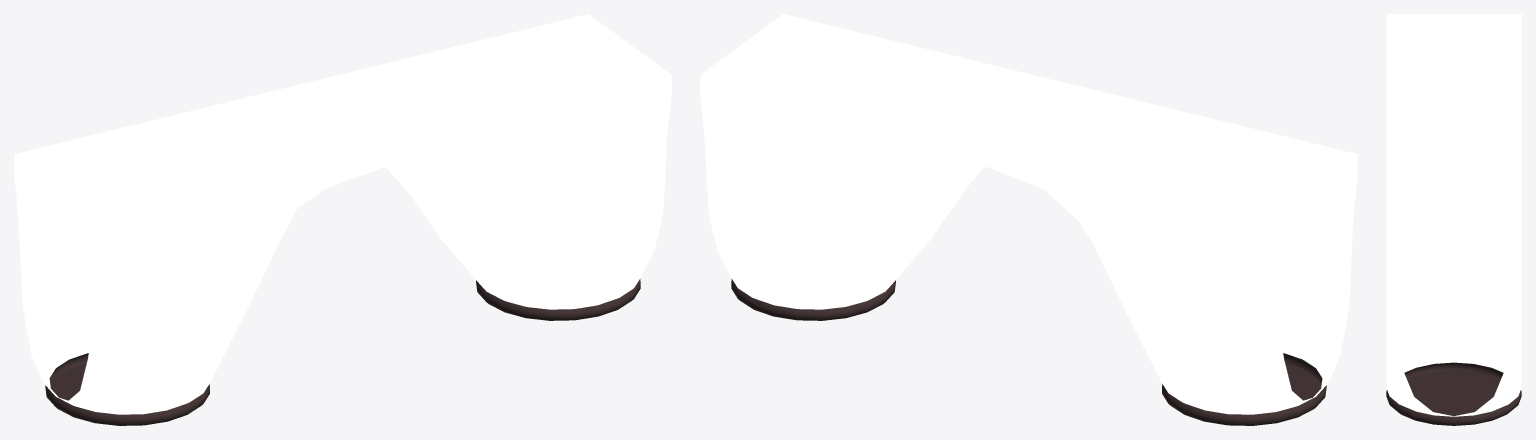
Rendered from 022_pillar_capital_var1.glb.
The picture shows the model from 3 angles, left to right: view 1: azimuth 30°, elevation 25°; view 2: azimuth 150°, elevation 25°; view 3: azimuth 270°, elevation 25°; orthographic projection. The views are drawn at different scales.
Parts seen in each view (by area): view 1: capital; view 2: capital; view 3: capital.
Boxes of the visible parts, left/top/right/bottom form: capital: left=14, top=14, right=671, bottom=425; capital: left=700, top=14, right=1357, bottom=425; capital: left=1386, top=14, right=1521, bottom=425.
Bounding box in the file's own units: 3 × 1.12 × 0.75.
2 materials, 1 textured.
